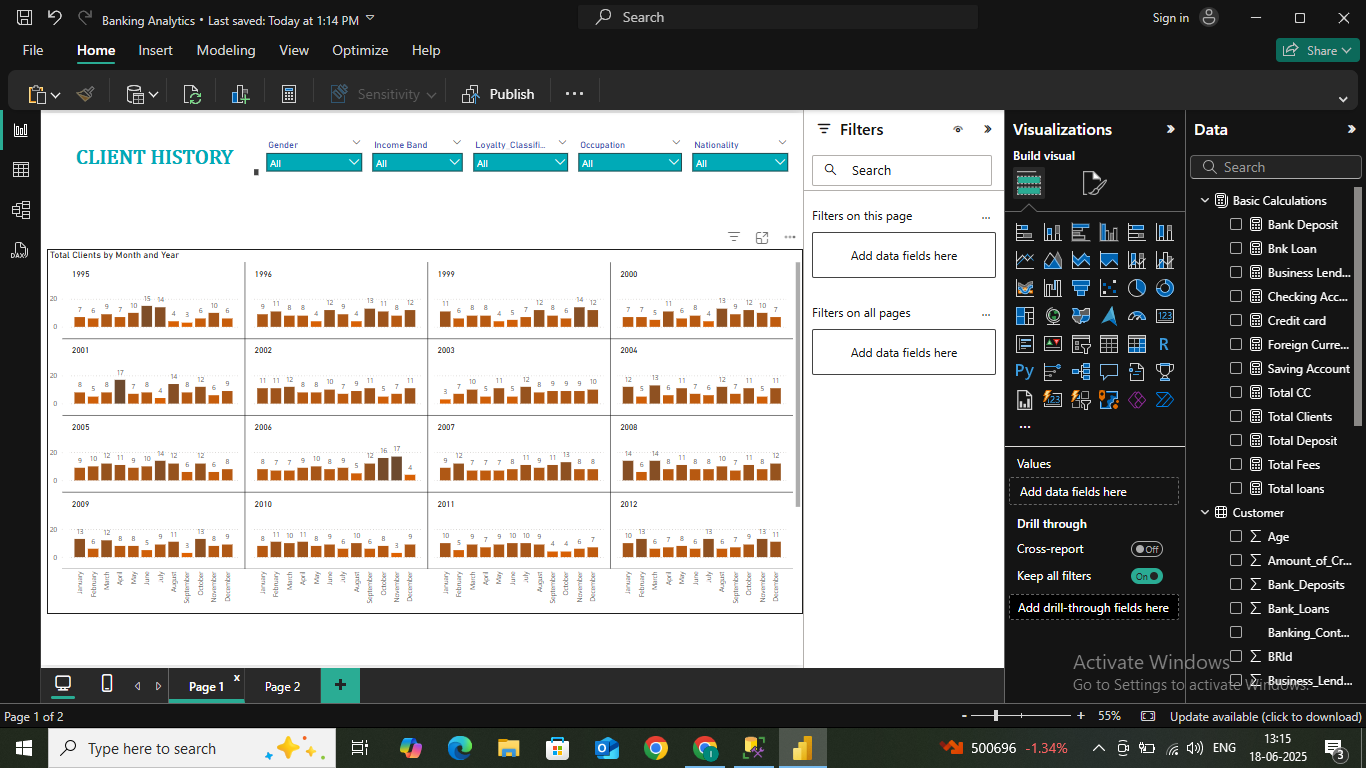

The dashboard page shown, as its layout file describes it:
{"tool":"powerbi","page":{"name":"Page 1","canvas":[1380,1000],"ordinal":0},"visuals":[{"type":"lineStackedColumnComboChart","fields":{"Y":["Basic Calculations.Total Clients"],"Category":["Customer.Joined_Bank.Variation.Date Hierarchy.Month"],"Rows":["Customer.Joined_Bank.Variation.Date Hierarchy.Year"]},"box":[10,247,1369.5,660.6],"z":0},{"type":"slicer","fields":{"Values":["Customer.Nationality"]},"box":[1170.7,42.2,192.8,76.3],"z":1000},{"type":"slicer","fields":{"Values":["Customer.Occupation"]},"box":[963.9,42.2,206.8,76.3],"z":2000},{"type":"slicer","fields":{"Values":["Customer.Loyalty_Classification"]},"box":[773.1,42.2,190.8,76.3],"z":3000},{"type":"slicer","fields":{"Values":["Customer.Income Band"]},"box":[590.4,42.2,182.7,76.3],"z":4000},{"type":"slicer","fields":{"Values":["Customer.Gender"]},"box":[397.6,42.2,192.8,76.3],"z":5000},{"type":"textbox","title":"CLIENT HISTORY","box":[10,60.2,387.6,58.2],"z":6000}]}

Visuals, with their boxes on the page's 1380x1000 design canvas (x1, y1, x2, y2). These are canvas units, not pixel positions in the 1366x768 screenshot, which may show the page scaled, cropped or inside an application window:
lineStackedColumnComboChart - Basic Calculations.Total Clients x Customer.Joined_Bank.Variation.Date Hierarchy.Month: [10, 247, 1380, 908]
slicer - Customer.Nationality: [1171, 42, 1364, 118]
slicer - Customer.Occupation: [964, 42, 1171, 118]
slicer - Customer.Loyalty_Classification: [773, 42, 964, 118]
slicer - Customer.Income Band: [590, 42, 773, 118]
slicer - Customer.Gender: [398, 42, 590, 118]
"CLIENT HISTORY" textbox: [10, 60, 398, 118]
